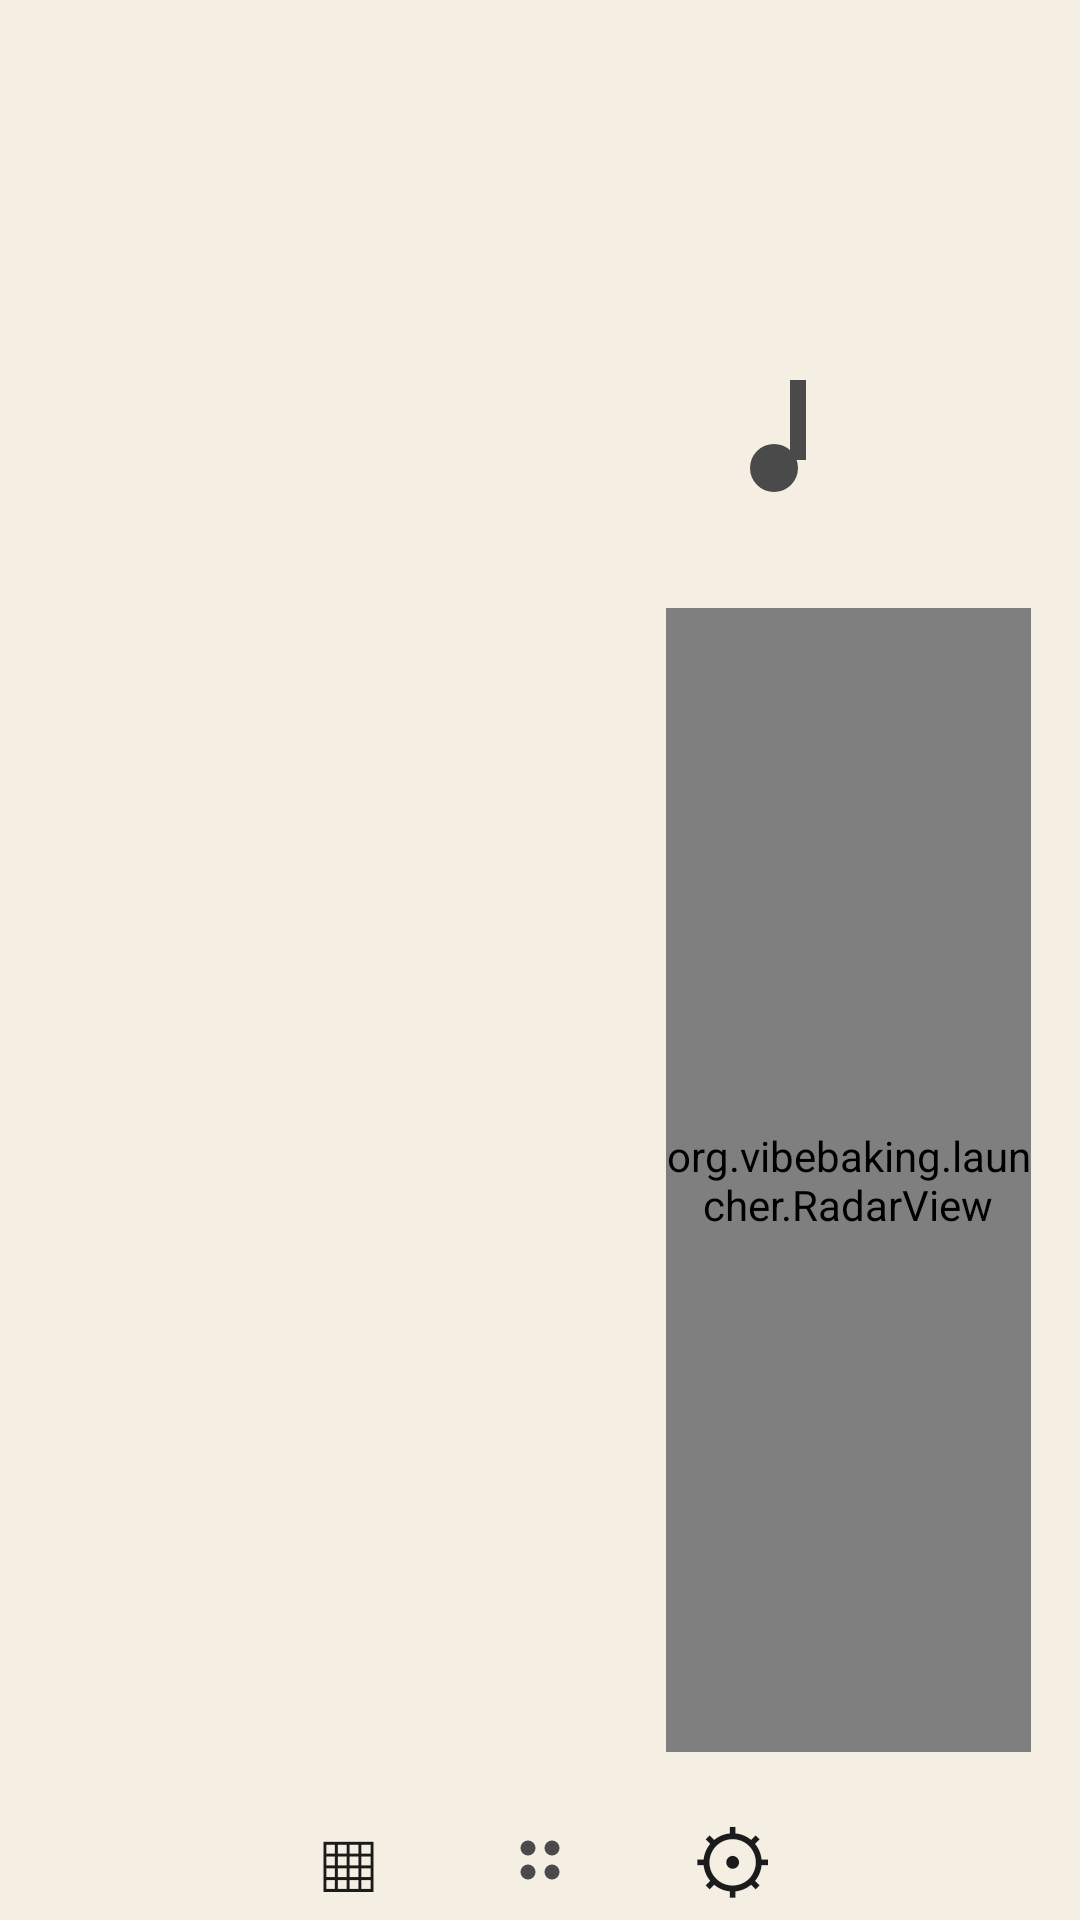

Named icons in this screenshot (1080 x 1920) and their bounding boxes, (x1, y1, x2, y2):
Show or hide the favourite apps: (520, 1840, 560, 1880)
